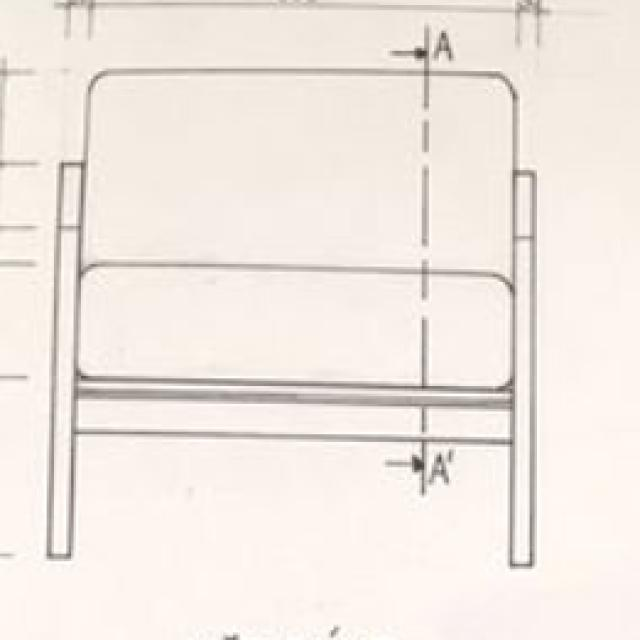Armrest: (495, 160, 549, 409), (45, 154, 91, 386)
Backrest: (74, 66, 516, 290)
Leg_Structure: (43, 383, 540, 573)
Seat: (68, 259, 522, 451)
